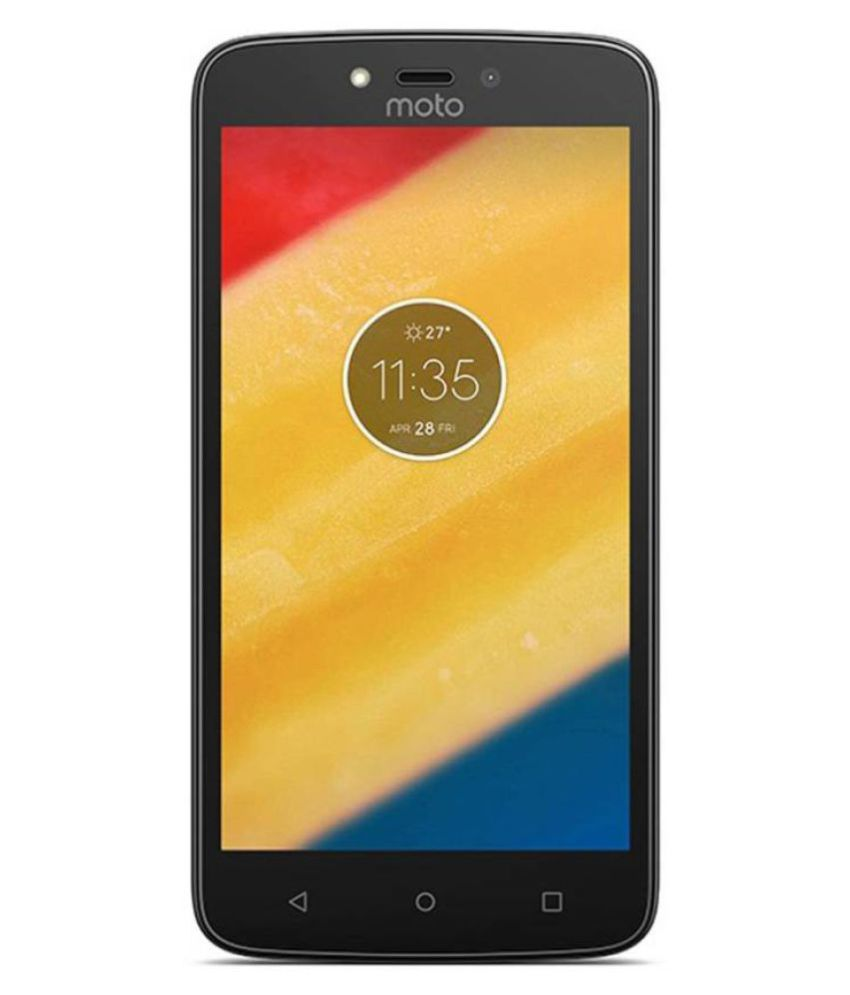mobile: (183, 20, 656, 963)
